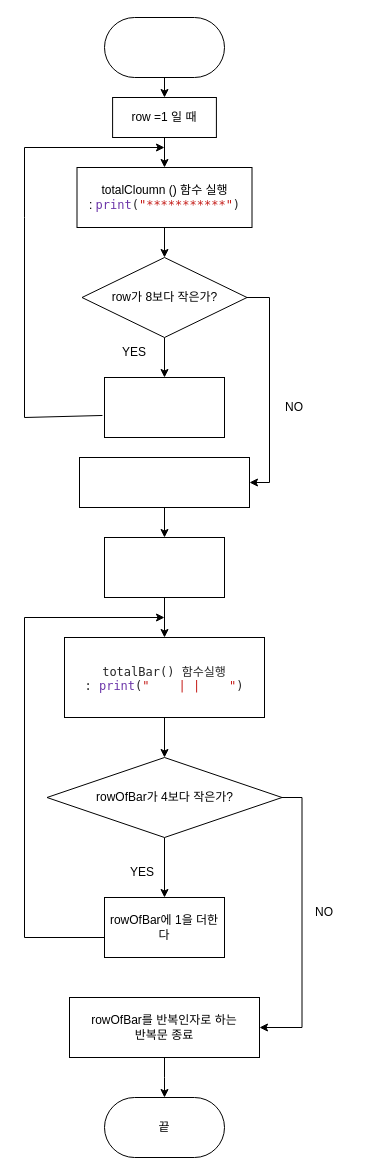
This 372x1175 diagram has some shape labels left out. Here are the shapes that lost their labels. From the top down, the centre of each, then its label:
(x=164, y=47): 시작
(x=164, y=407): row에 1을 더한다
(x=164, y=482): row를 반복인자로 하는 반복문 종료
(x=164, y=567): rowOfBar = 1일 때
